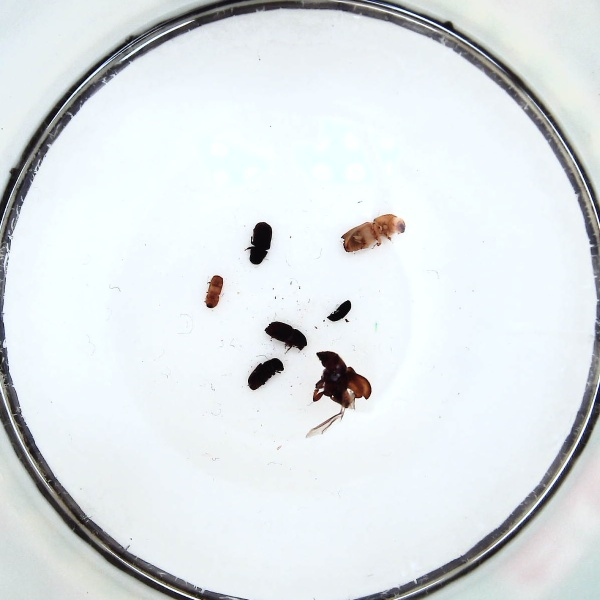acuminatus: (204, 273, 225, 309)
armandi: (247, 220, 276, 265), (247, 357, 284, 390)
boerner: (339, 214, 406, 255)
coleoptera: (327, 297, 352, 323)
leconte: (312, 350, 373, 409)
linnaeus: (264, 319, 309, 351)
